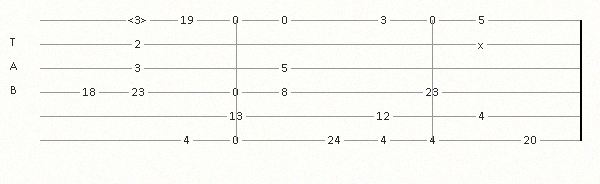0: (232, 14, 243, 26), (232, 86, 243, 98), (232, 134, 243, 146), (281, 14, 292, 26), (429, 14, 440, 26)
12: (376, 110, 394, 122)
13: (229, 110, 247, 122)
18: (82, 86, 100, 98)
19: (180, 14, 198, 26)
2: (134, 38, 145, 50)
20: (523, 134, 541, 146)
23: (131, 86, 149, 98), (425, 86, 443, 98)
24: (327, 134, 345, 146)
3: (134, 62, 145, 74), (380, 14, 391, 26)
4: (183, 134, 194, 146), (380, 134, 391, 146), (429, 134, 440, 146), (478, 110, 489, 122)
5: (281, 62, 292, 74), (478, 14, 489, 26)
8: (281, 86, 292, 98)
harmonic: (128, 14, 151, 26)
x: (478, 39, 488, 49)
